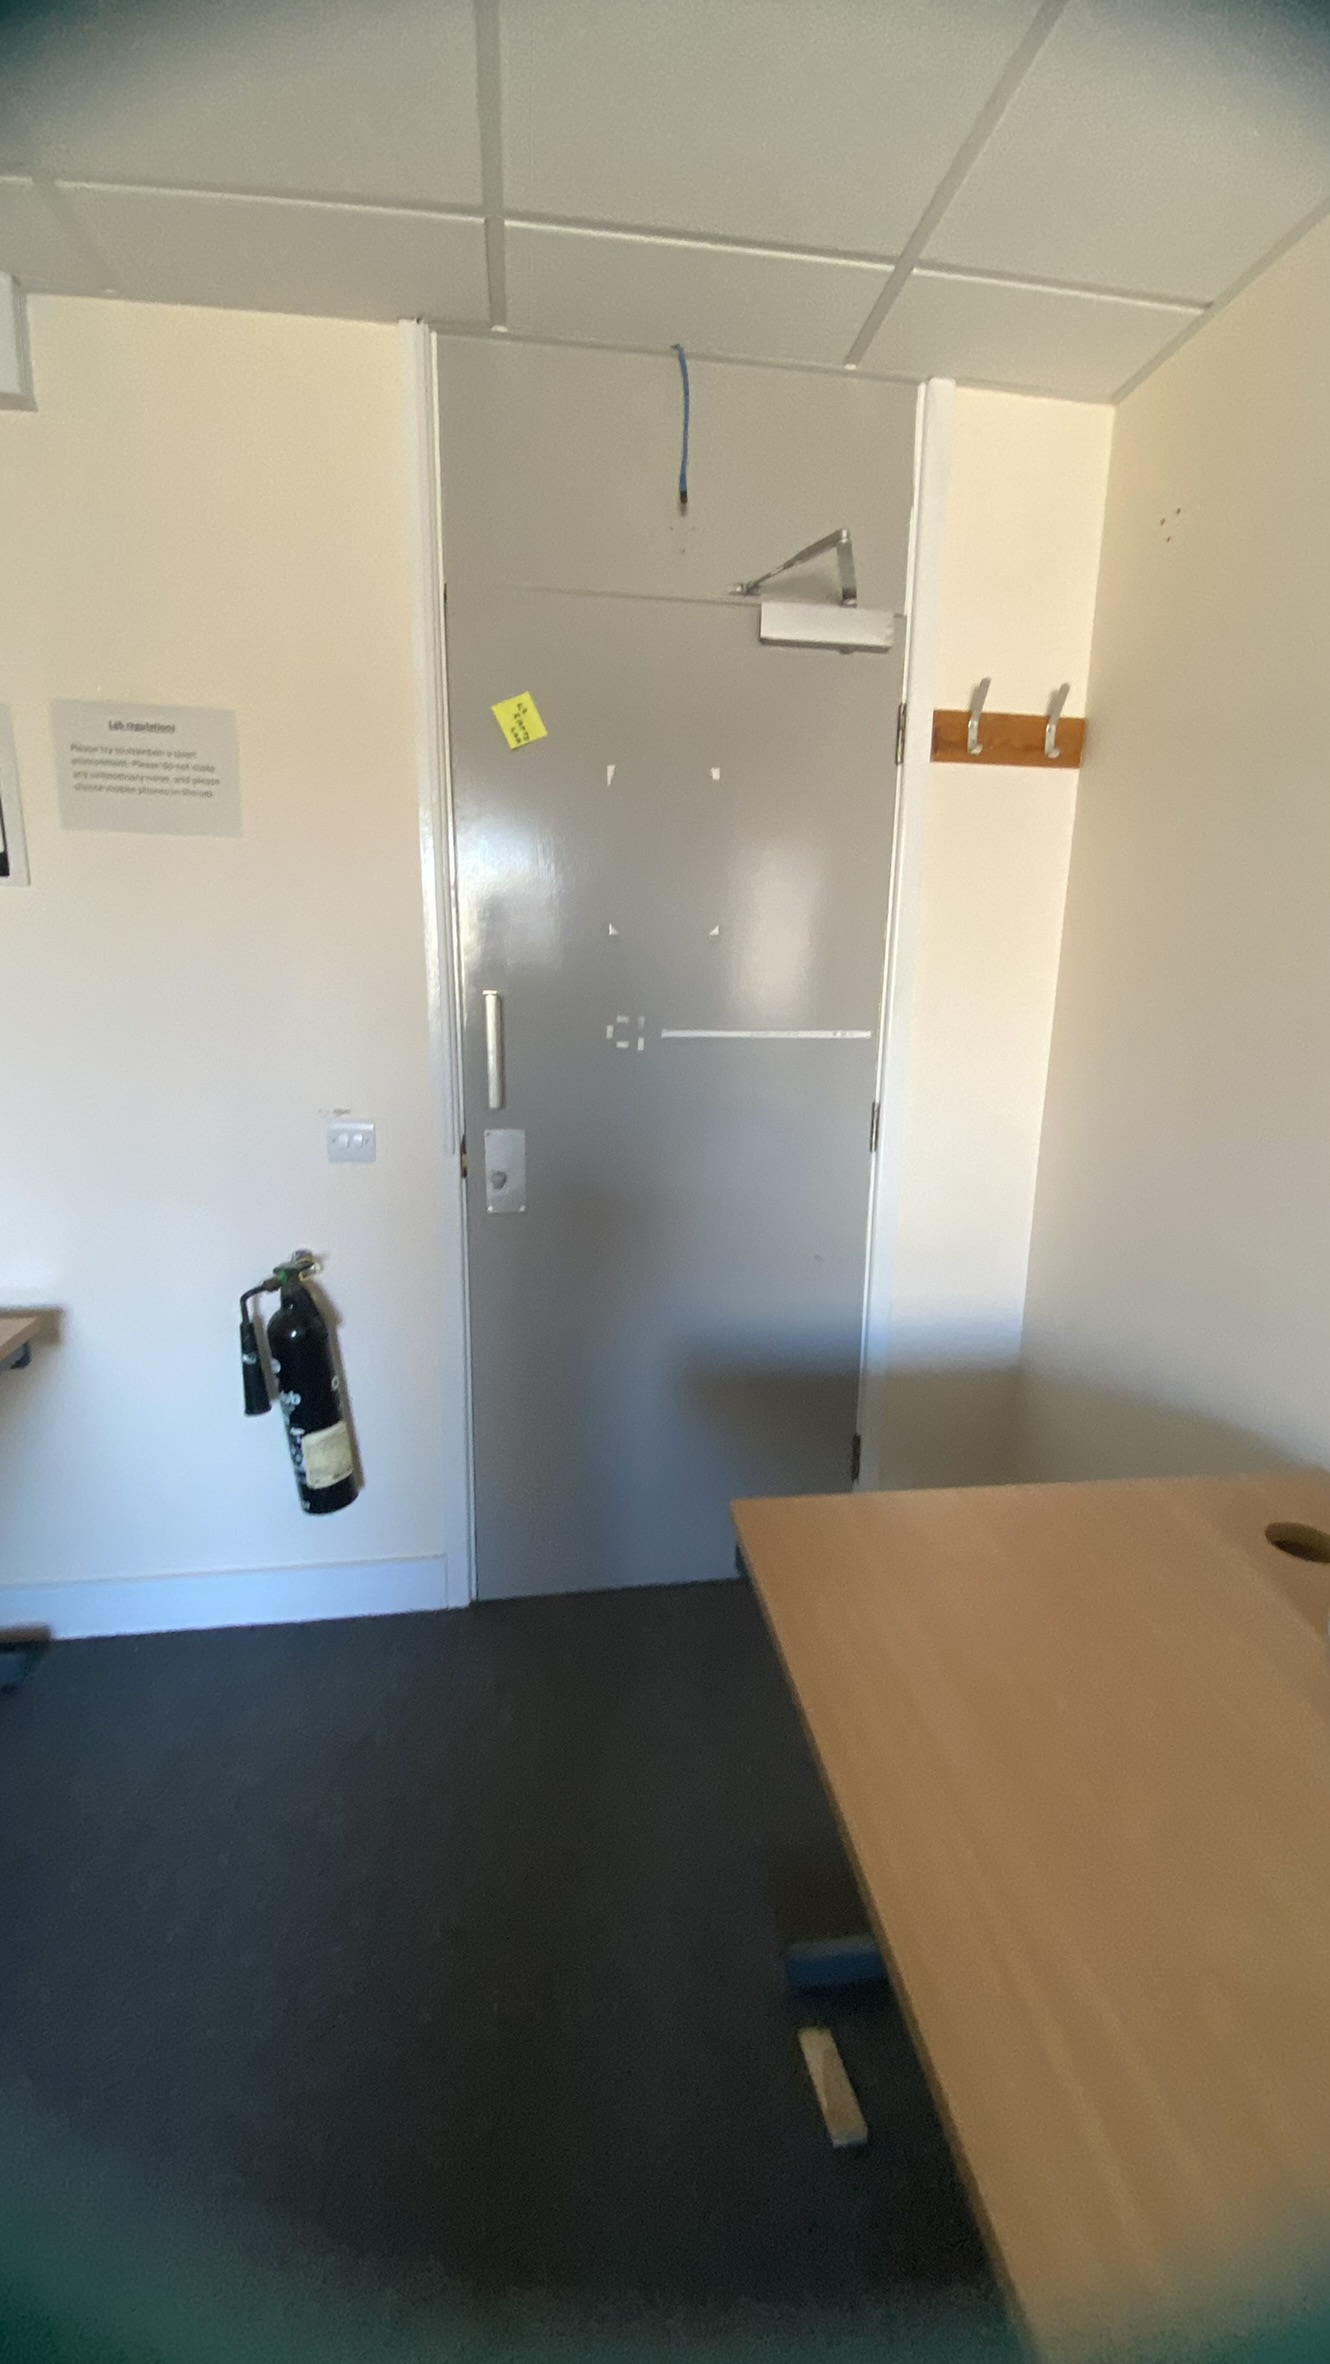door: (419, 336, 969, 1846)
